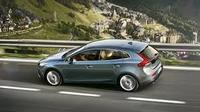car: (37, 39, 164, 91)
